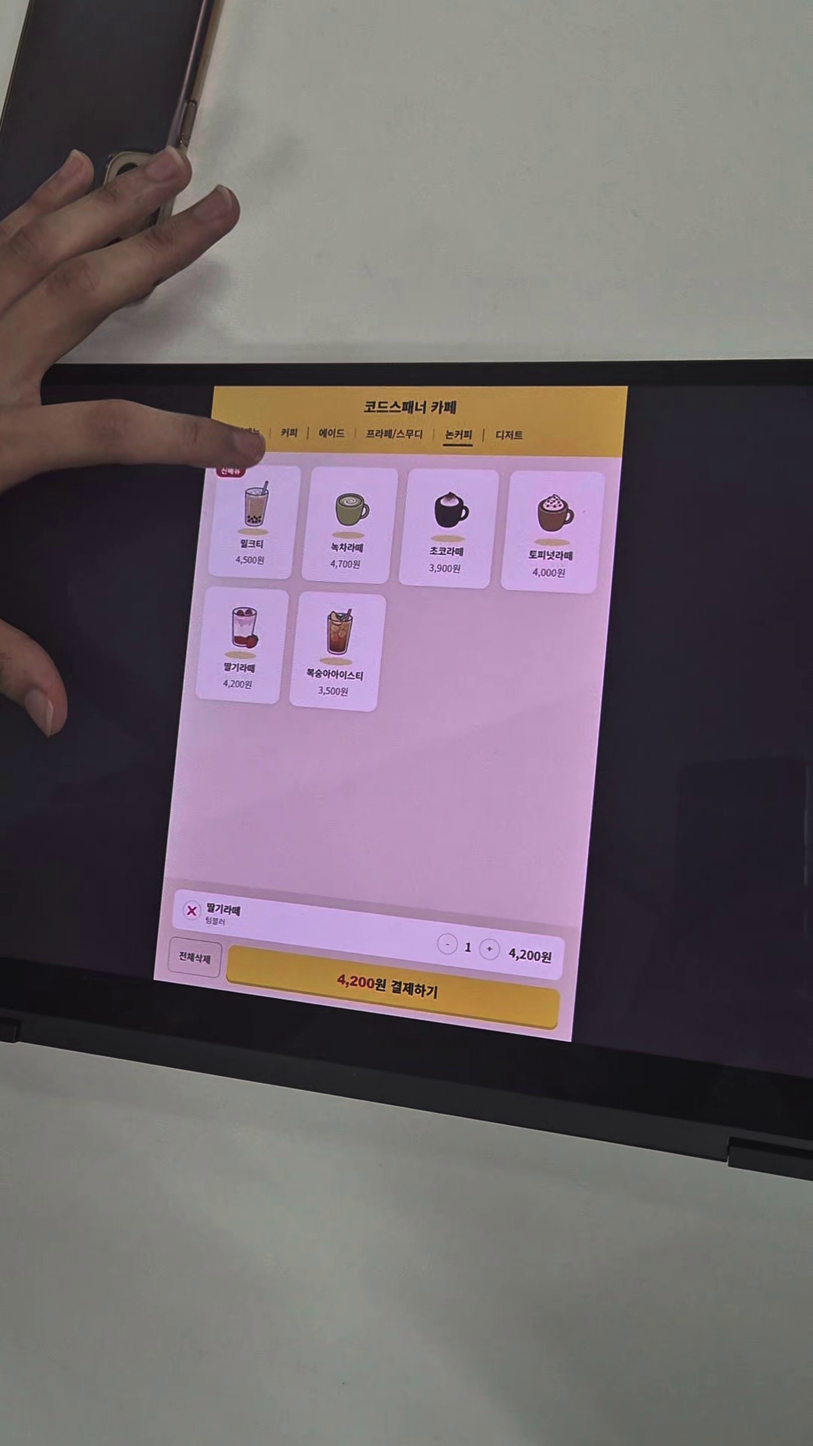action_button: (227, 945, 562, 1031), (167, 936, 222, 978)
cart_item: (172, 888, 567, 981)
category_tab: (365, 428, 424, 441), (493, 429, 525, 442), (318, 427, 346, 440), (444, 428, 474, 440), (280, 426, 299, 438)
menu_back: (500, 469, 605, 593), (397, 468, 500, 590), (288, 591, 386, 710), (301, 466, 399, 584), (194, 586, 289, 705), (207, 464, 303, 580)
menu_name: (307, 668, 366, 683), (203, 901, 240, 918), (529, 549, 575, 562), (429, 546, 464, 559), (223, 661, 258, 674), (330, 542, 364, 555), (240, 538, 266, 551)
menu_price: (520, 949, 566, 969), (330, 559, 363, 571), (429, 563, 462, 575), (317, 685, 350, 697), (221, 679, 254, 691), (533, 567, 566, 579), (234, 555, 267, 567)
